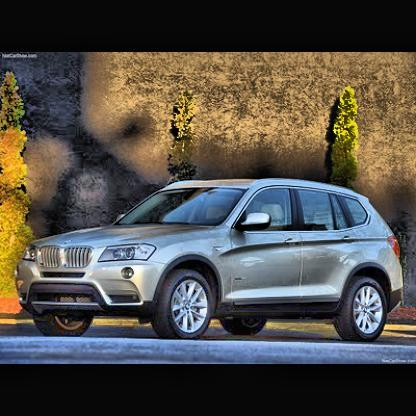BMW X3 SUV 2012: (16, 180, 406, 345)
